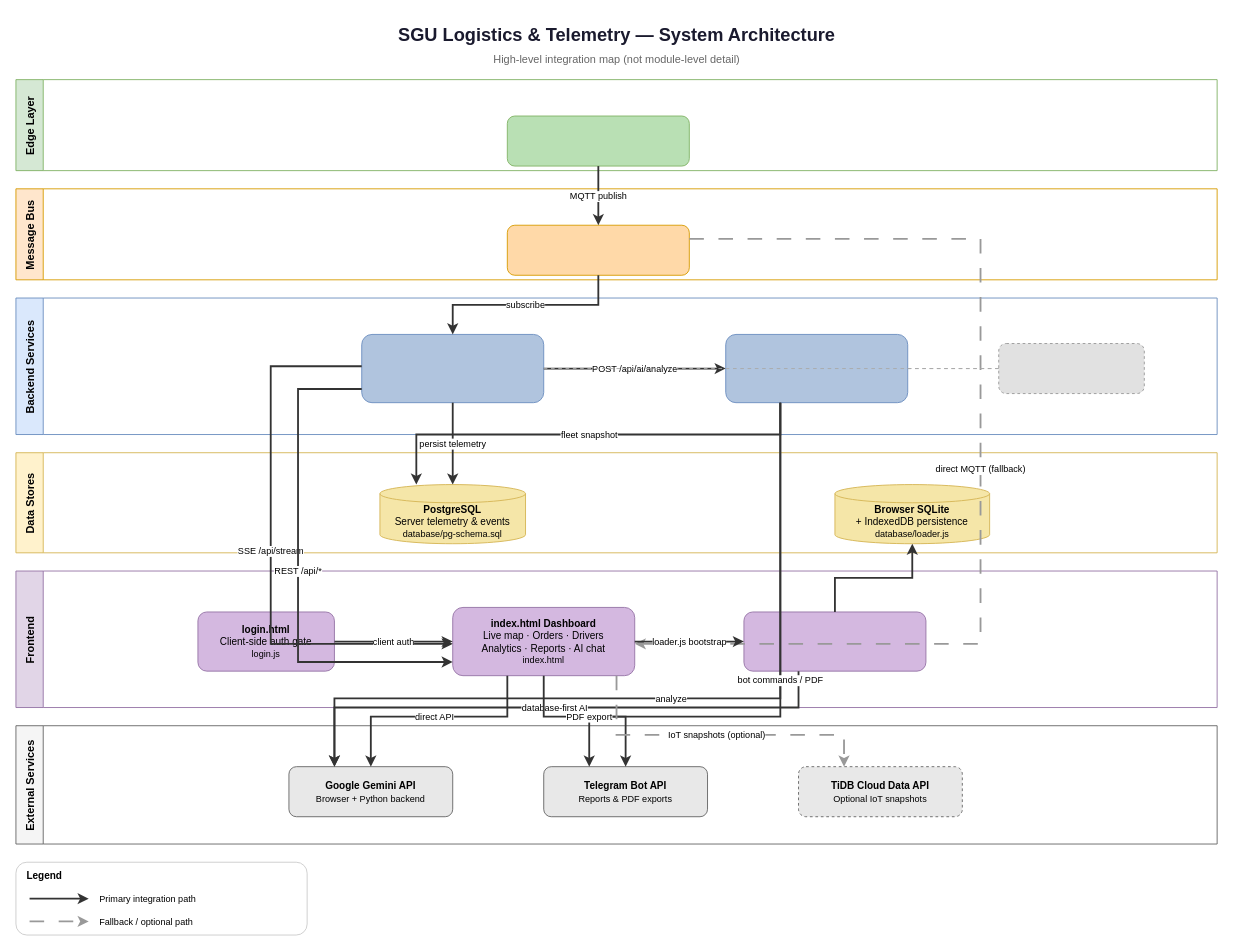
Some shapes in this 1233 by 951 pixel diagram are drawn without their labels. Here are the shapes that lost their labels. From the top down, the centre of each, then its label:
At point 597,140: "ESP32 MonzTrack GPS + OBD-II + Sensors obd2_scanner.ino".
At point 597,249: "HiveMQ MQTT Broker monztrack/device01/gps".
At point 452,368: "Node.js Server MQTT subscriber · REST API SSE stream · AI proxy server.js".
At point 816,368: "Python AI Backend FastAPI · Gemini analysis Telegram bot ai_backend/main.py".
At point 1071,368: "Railway Hosting 2 services: Node + Python".
At point 834,641: "Browser Database Layer SQLite · DAL · Smart AI engine database/".
